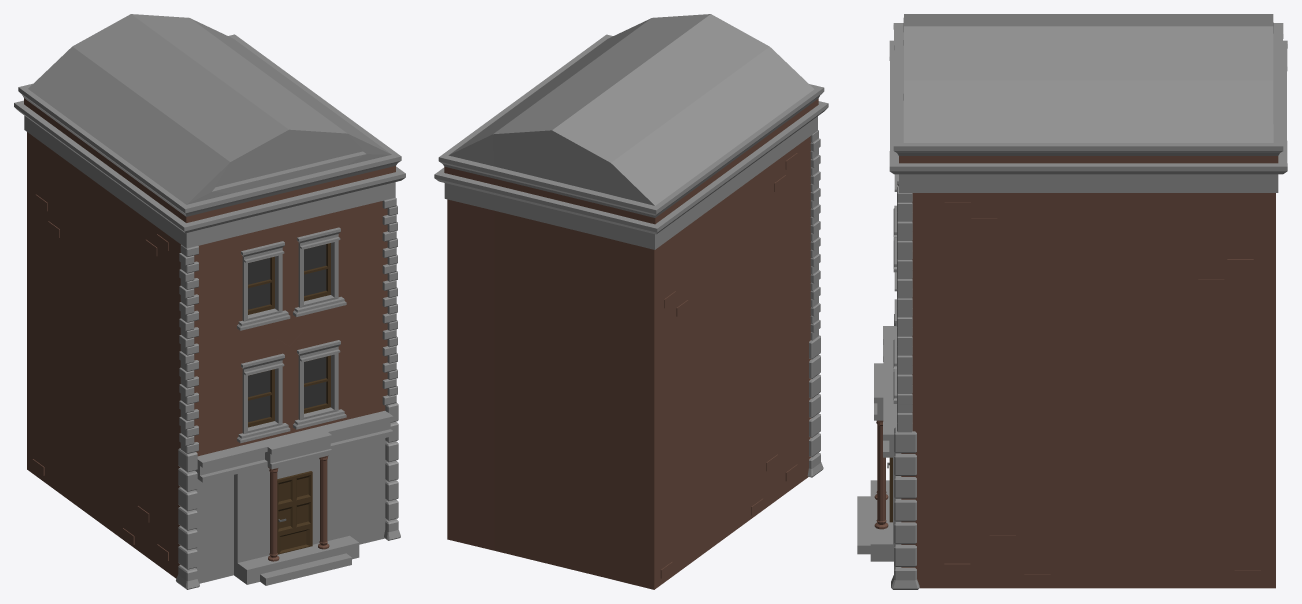
The model's file is Building3_Small.glb.
3 views of the same model, side by side, from view 1: azimuth 30°, elevation 25°; view 2: azimuth 150°, elevation 25°; view 3: azimuth 270°, elevation 25° (orthographic). The views are drawn at different scales.
Visible parts, largest first — view 1: Building3_Small; view 2: Building3_Small; view 3: Building3_Small.
Boxes of the visible parts, left/top/right/bottom form: Building3_Small: left=14, top=14, right=405, bottom=589; Building3_Small: left=434, top=14, right=828, bottom=589; Building3_Small: left=857, top=14, right=1287, bottom=589.
Bounding box in the file's own units: 3.05 × 5.68 × 4.4.
